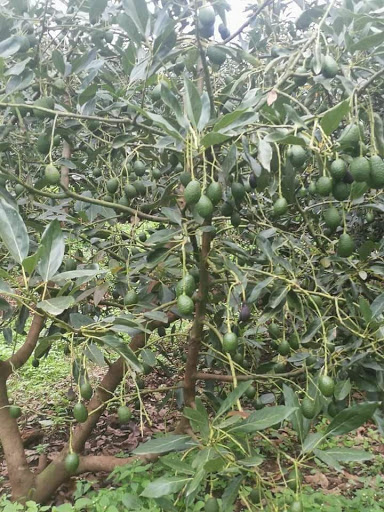unfit_avocado: (349, 154, 371, 187), (335, 232, 359, 259), (268, 193, 290, 219), (40, 163, 63, 187), (315, 176, 334, 199), (188, 177, 202, 207), (175, 292, 196, 312), (221, 329, 241, 350), (104, 172, 121, 196), (123, 178, 145, 196)
